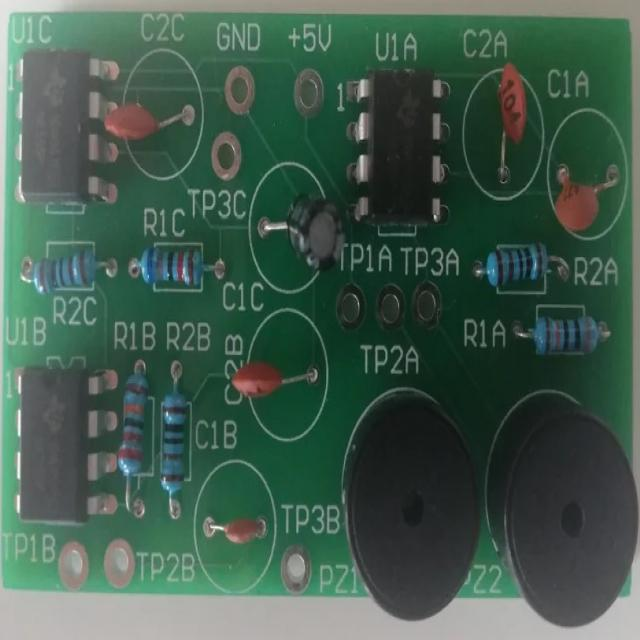IC: (14, 51, 111, 209), (16, 366, 114, 516), (360, 69, 447, 227)
buzzer: (505, 392, 640, 621), (345, 393, 481, 617)
capacitor 1V5: (271, 178, 342, 268), (227, 348, 308, 408), (102, 93, 187, 145), (551, 153, 604, 233), (489, 57, 526, 151), (206, 509, 266, 555)
resistor IR1: (25, 240, 106, 302), (122, 362, 155, 479), (162, 371, 188, 510), (135, 248, 207, 298), (482, 248, 554, 283), (530, 321, 600, 354)
